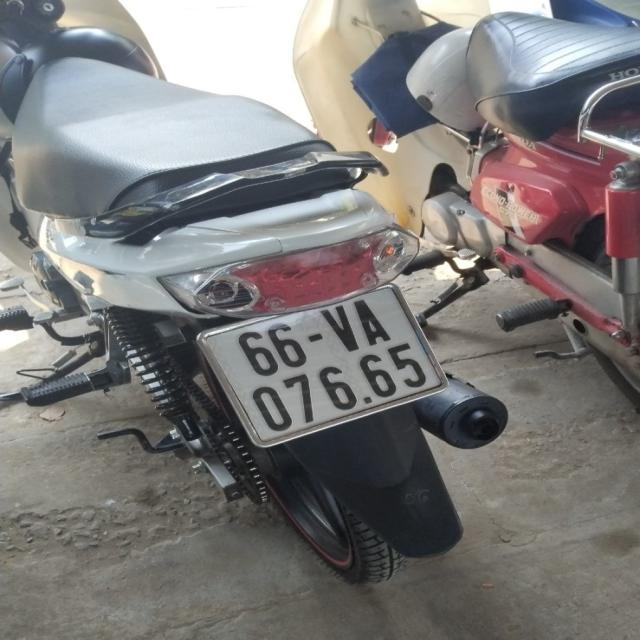0: (248, 384, 294, 433)
5: (388, 341, 429, 386)
6: (270, 322, 310, 370), (237, 330, 277, 377), (358, 354, 398, 396), (319, 365, 357, 409)
7: (284, 373, 320, 424)
A: (354, 297, 389, 346)
V: (322, 303, 361, 352)
